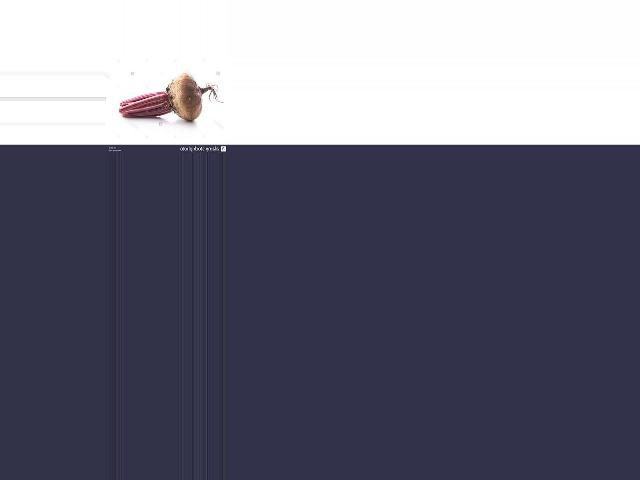beet: (118, 73, 223, 121)
